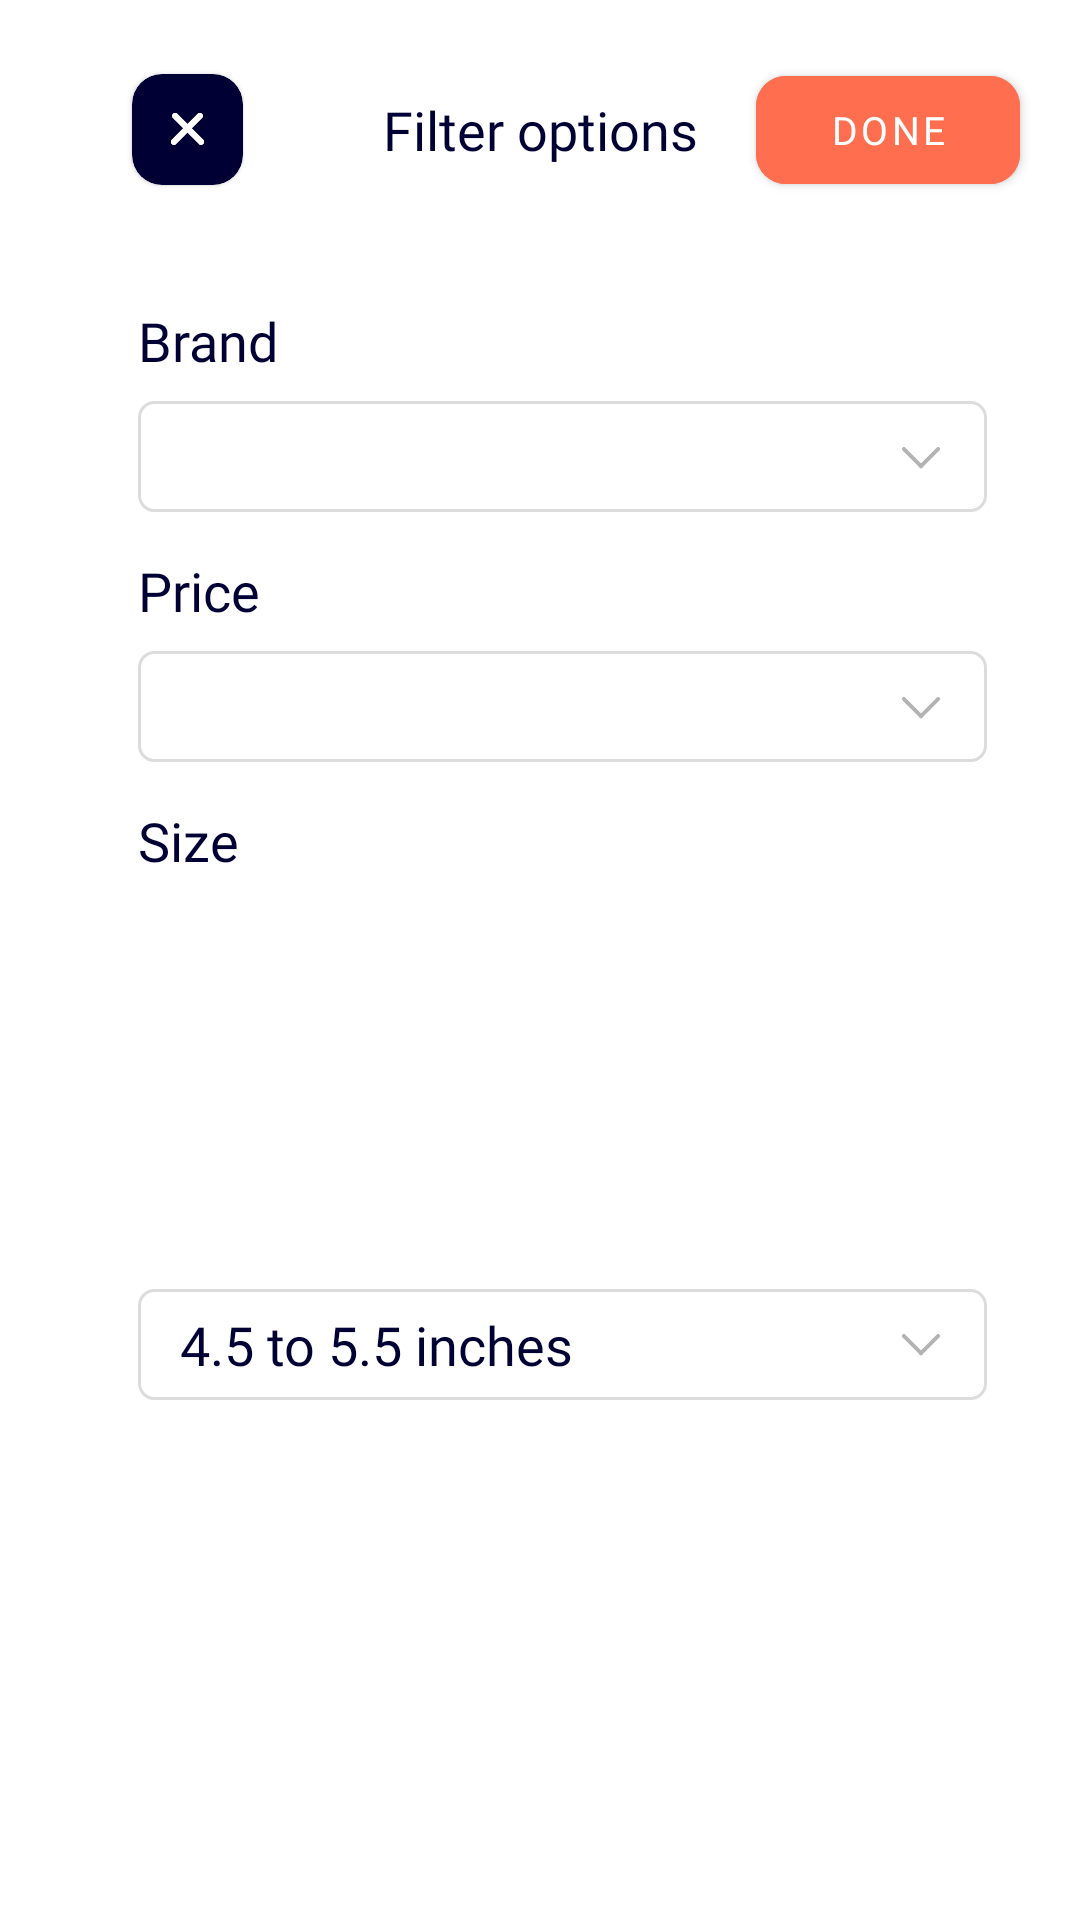

Where icons sit on this 1080 × 1920 app screen, as bbox=[x1, y1, x2, y2]:
close: bbox=[171, 113, 204, 145]
spinner arrow: bbox=[902, 447, 940, 469], bbox=[902, 697, 940, 719], bbox=[902, 1334, 940, 1356]
